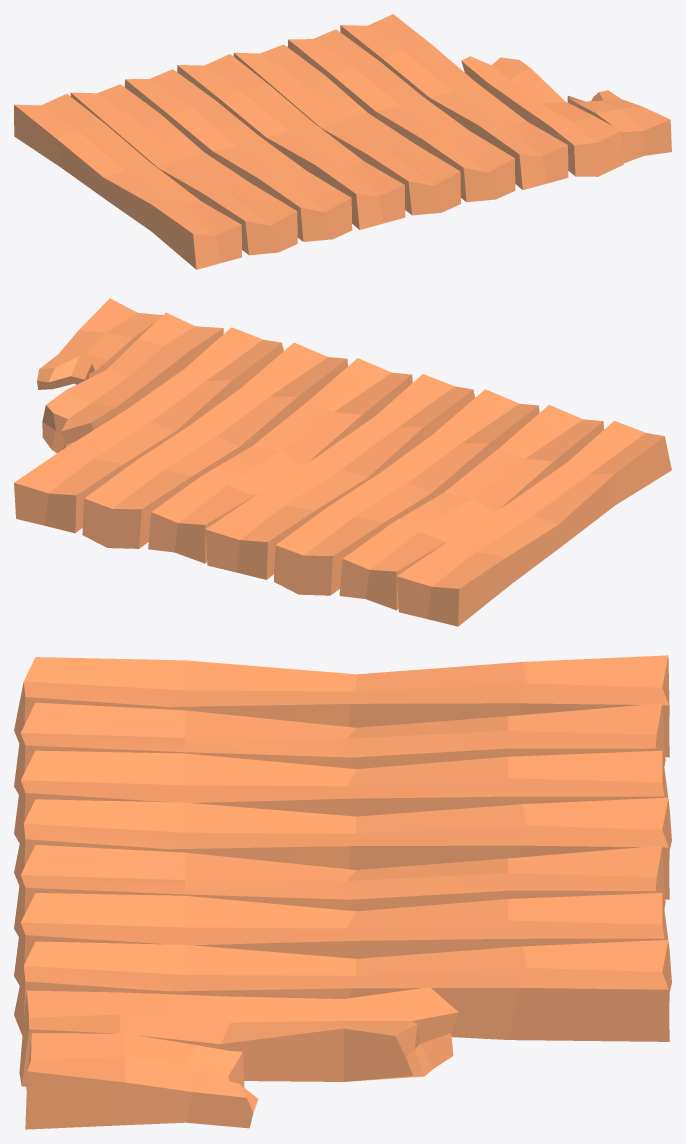
The model's file is PlatformL_Wood3.fbx.
The picture shows the model from 3 angles, top to bottom: view 1: azimuth 30°, elevation 25°; view 2: azimuth 150°, elevation 25°; view 3: azimuth 270°, elevation 25°; orthographic projection. The views are drawn at different scales.
Visible parts, largest first — view 1: WoodPlank5__1_, WoodPlank4, WoodPlank4_1, WoodPlank5, WoodPlank5_1, WoodPlank6_1, WoodPlank6, WoodPlank9, WoodPlank12; view 2: WoodPlank5__1_, WoodPlank4, WoodPlank4_1, WoodPlank5, WoodPlank5_1, WoodPlank6, WoodPlank6_1, WoodPlank9, WoodPlank12; view 3: WoodPlank5, WoodPlank5_1, WoodPlank5__1_, WoodPlank4, WoodPlank4_1, WoodPlank6, WoodPlank6_1, WoodPlank9, WoodPlank12.
Boxes of the visible parts, x1,y1,x2,y2 form: WoodPlank5__1_: (14,94,241,269); WoodPlank4: (287,29,515,201); WoodPlank4_1: (124,69,352,241); WoodPlank5: (340,14,568,189); WoodPlank5_1: (177,54,405,229); WoodPlank6_1: (70,84,297,255); WoodPlank6: (233,44,460,215); WoodPlank9: (461,56,623,176); WoodPlank12: (567,90,671,162); WoodPlank5__1_: (396,420,671,626); WoodPlank4: (82,342,347,548); WoodPlank4_1: (274,389,539,595); WoodPlank5: (14,327,283,533); WoodPlank5_1: (205,374,474,579); WoodPlank6: (148,358,412,563); WoodPlank6_1: (339,405,603,610); WoodPlank9: (42,312,223,453); WoodPlank12: (37,298,162,389); WoodPlank5: (14,940,669,1041); WoodPlank5_1: (14,797,669,899); WoodPlank5__1_: (14,655,669,757); WoodPlank4: (14,893,671,991); WoodPlank4_1: (14,750,671,849); WoodPlank6: (14,845,665,936); WoodPlank6_1: (14,702,665,794); WoodPlank9: (19,987,458,1086); WoodPlank12: (25,1033,258,1129).
Bounding box in the file's own units: 593 × 44.35 × 396.
